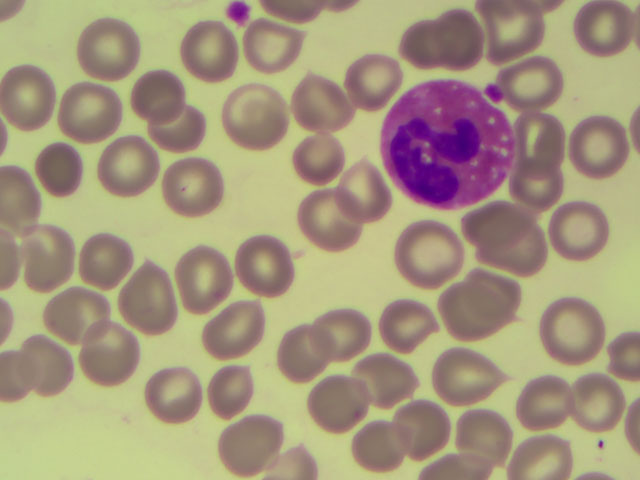Platelets: (226, 1, 250, 24), (487, 84, 504, 103)
RBC: (510, 418, 568, 480), (80, 20, 138, 81), (60, 79, 118, 140), (37, 139, 95, 200), (15, 218, 73, 279), (54, 279, 112, 340), (85, 227, 143, 288), (117, 271, 175, 332), (171, 252, 229, 313), (83, 320, 141, 381), (13, 334, 71, 395), (148, 363, 206, 424), (204, 301, 262, 362), (235, 238, 293, 299), (297, 188, 355, 249), (328, 158, 386, 219), (286, 127, 344, 188), (293, 64, 351, 125), (226, 91, 284, 152), (180, 23, 238, 84), (241, 17, 299, 78), (128, 61, 186, 122), (157, 98, 215, 159), (101, 134, 159, 195), (163, 158, 221, 219), (310, 303, 368, 364), (279, 324, 337, 385), (204, 358, 262, 419), (220, 410, 278, 471), (301, 377, 359, 438), (356, 351, 414, 412), (344, 402, 402, 463), (388, 395, 446, 456), (437, 351, 495, 412), (386, 295, 444, 356), (401, 223, 459, 284), (470, 205, 528, 266), (505, 154, 563, 215), (516, 108, 574, 169), (516, 58, 574, 119), (428, 13, 486, 74), (374, 15, 432, 76), (342, 46, 400, 107), (550, 196, 608, 257), (567, 117, 625, 178), (457, 271, 515, 332), (547, 304, 605, 365), (514, 372, 572, 433), (573, 374, 631, 435), (450, 409, 508, 470), (580, 1, 638, 61), (1, 170, 58, 231), (1, 68, 59, 126)
WBC: (379, 93, 517, 211)
